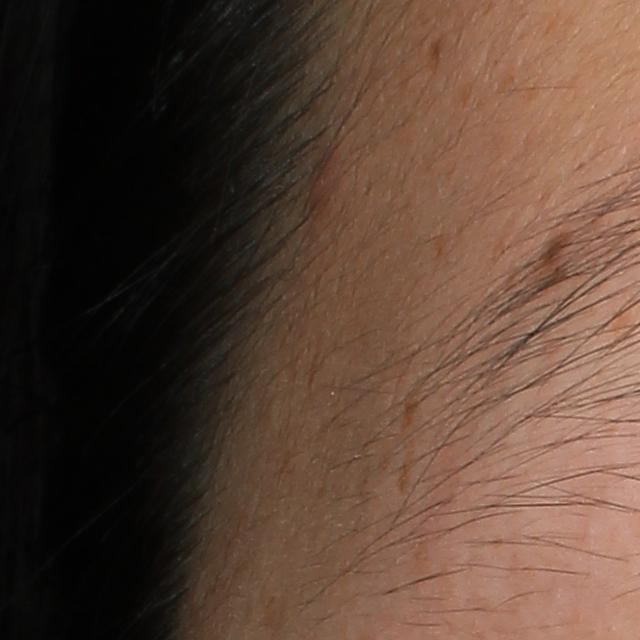melasma: (398, 388, 429, 502)
nevus: (537, 228, 576, 272), (427, 31, 455, 75)
